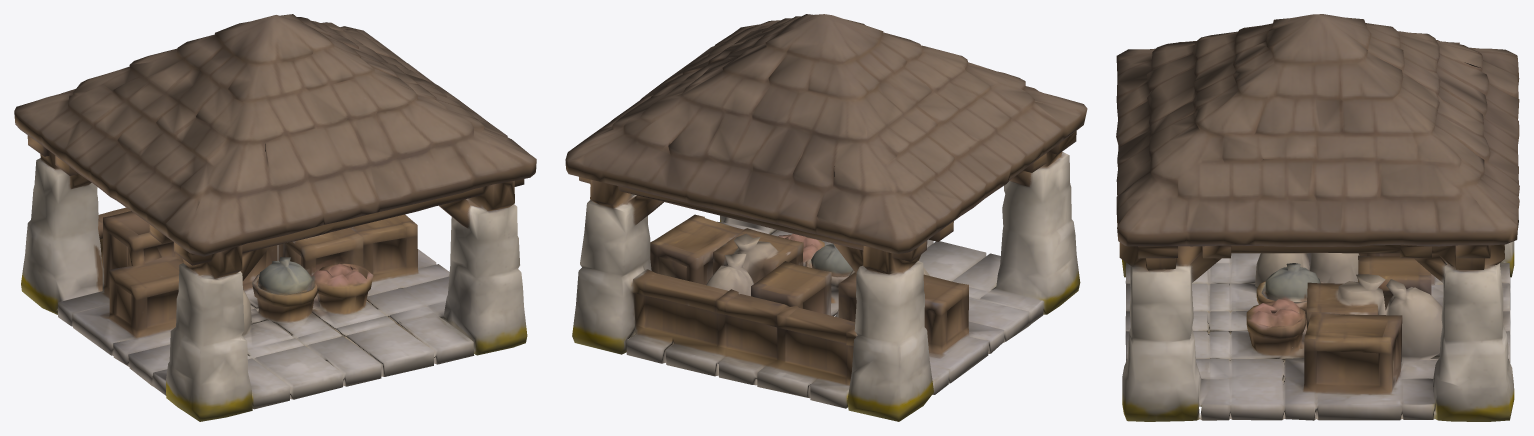
File: market.glb
The picture shows the model from 3 angles, left to right: view 1: azimuth 30°, elevation 25°; view 2: azimuth 150°, elevation 25°; view 3: azimuth 270°, elevation 25°; orthographic projection. The views are drawn at different scales.
Parts seen in each view (by area): view 1: geometry_0.001; view 2: geometry_0.001; view 3: geometry_0.001.
Boxes of the visible parts, box(x1,y1,x2,y2) form: geometry_0.001: box(14, 14, 536, 421); geometry_0.001: box(565, 14, 1087, 421); geometry_0.001: box(1116, 14, 1519, 421).
Bounding box in the file's own units: 1.99 × 1.65 × 1.87.
Materials: 1 (1 with a texture image).
